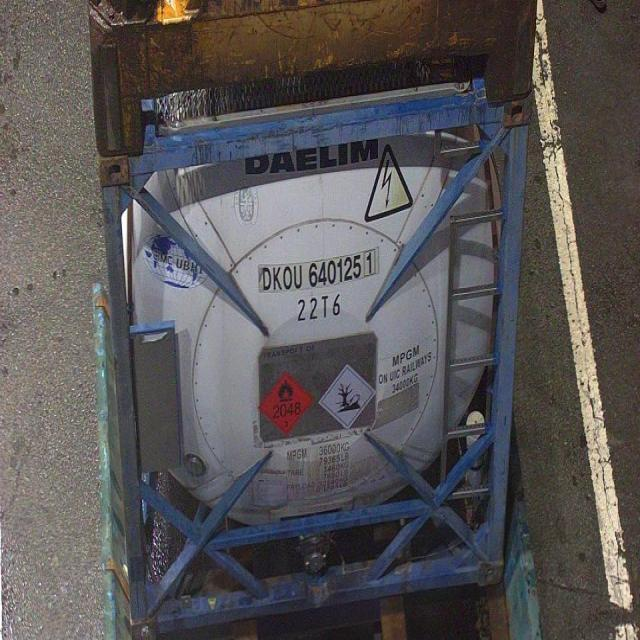ISO: (298, 296, 342, 321)
container_number: (258, 250, 378, 296)
